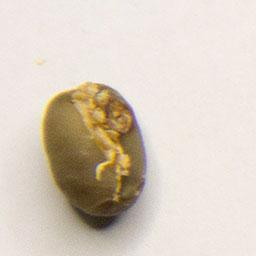peaberry: (38, 77, 151, 221)
